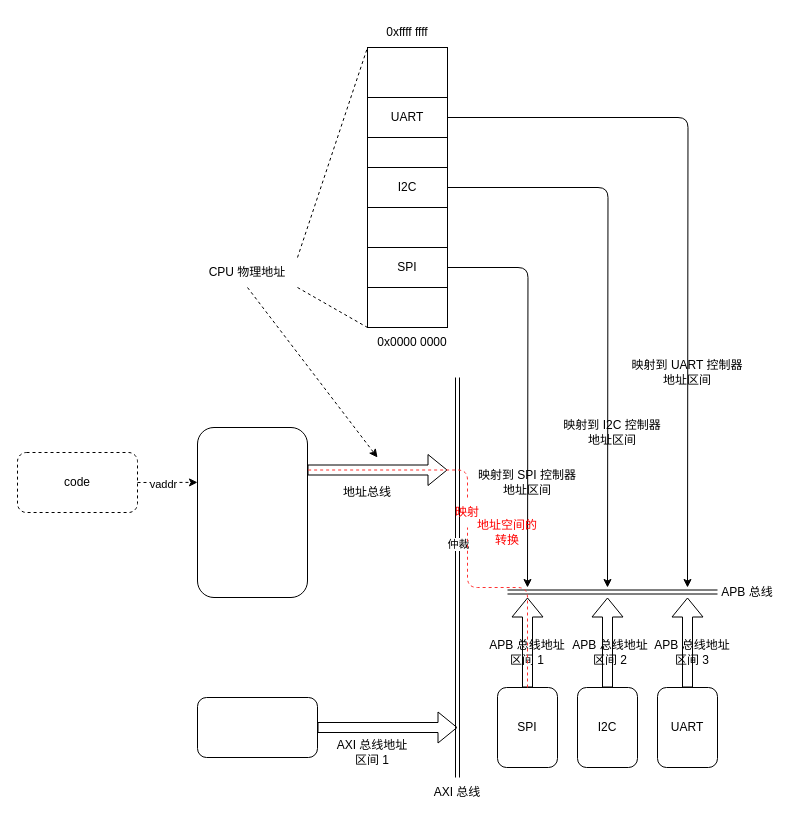
Some shapes in this 795 by 824 pixel diagram are drawn without their labels. Here are the shapes that lost their labels. From the top down, the centre of each, then its label:
the point at 252,512: CPU
the point at 257,727: DMA
